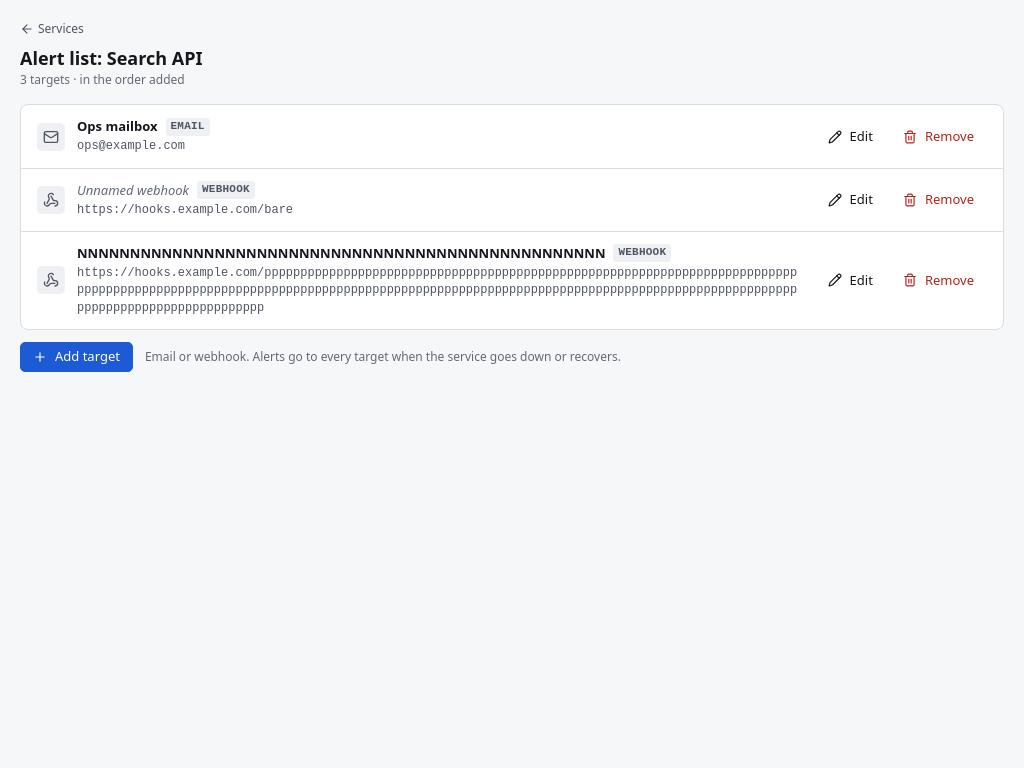
Test: removing a target › after a 404 not_found › shows service not found with the heading focused when the refetch answers 404
Expected: the list named "Notification targets" is shown, [20,104,1004,330]
Click the button with aria-label "Remove Ops mailbox". click: point(938, 136)
box: [890,122,987,152]
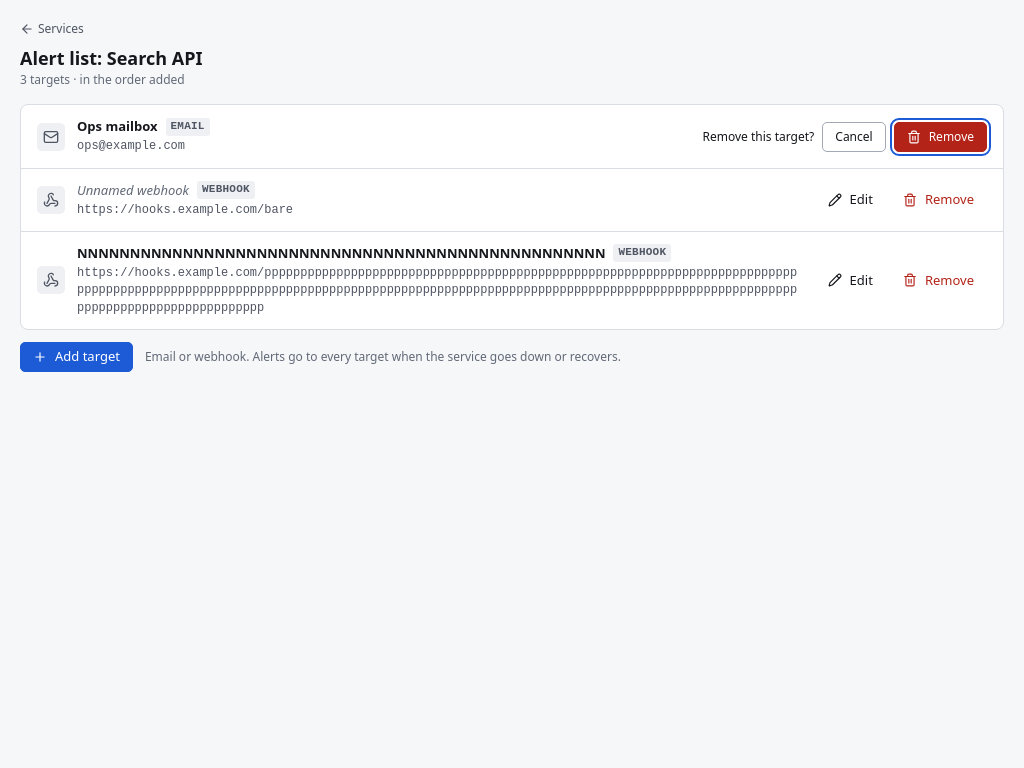
Click the button "Remove" in the row of "Remove this target?". click: point(940, 136)
box: [894,122,987,152]
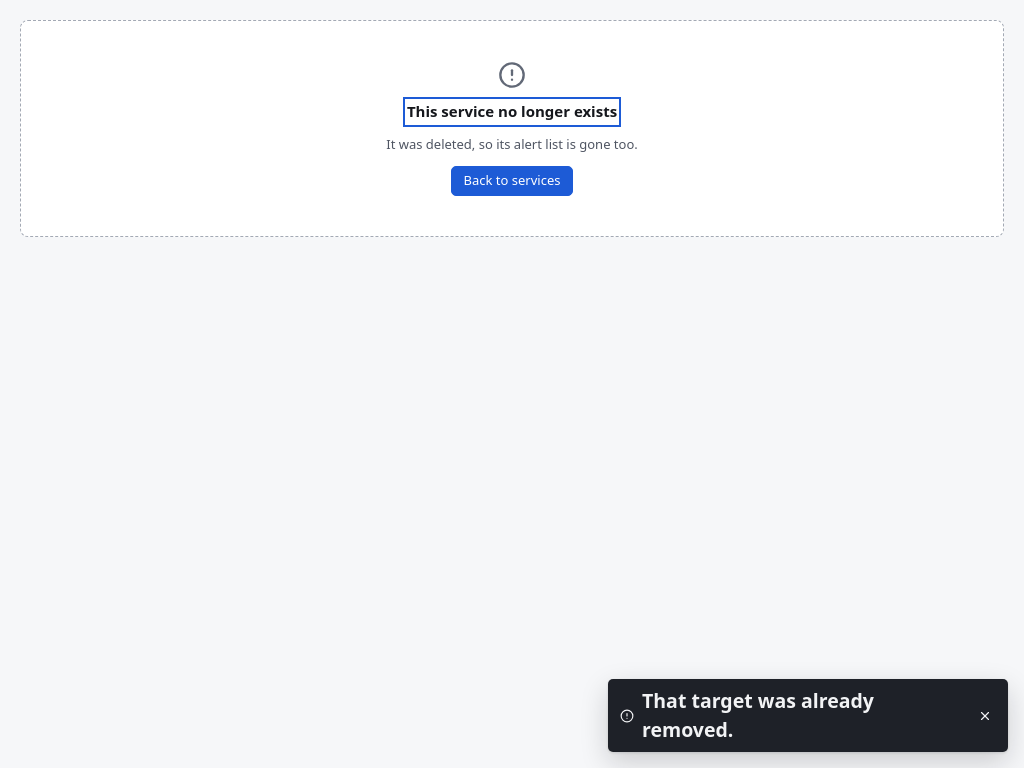
Expected: the heading "That target was already removed." is shown, [642,688,874,743]
